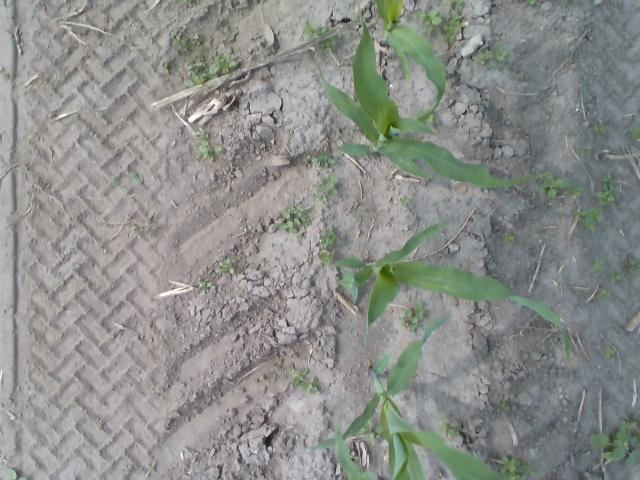Maize: (313, 4, 542, 188), (336, 222, 572, 364), (309, 318, 508, 480), (371, 0, 446, 120), (329, 425, 382, 480)
Weeds: (593, 428, 640, 466), (417, 8, 441, 36), (542, 172, 564, 198), (208, 54, 235, 74), (276, 211, 300, 233), (198, 140, 221, 161), (443, 20, 461, 44), (289, 364, 308, 386), (316, 176, 338, 194), (400, 310, 418, 332), (293, 206, 312, 226), (604, 172, 618, 197), (322, 228, 338, 248), (184, 72, 206, 86), (588, 208, 602, 230), (495, 42, 511, 61), (442, 418, 458, 437), (302, 24, 327, 36), (216, 258, 234, 274), (113, 178, 128, 197), (298, 378, 318, 392), (626, 254, 639, 274), (318, 38, 336, 52), (502, 457, 516, 474), (598, 190, 614, 204), (303, 150, 317, 164), (319, 156, 335, 168), (414, 302, 426, 318), (130, 172, 143, 185), (319, 252, 333, 264), (198, 278, 212, 290), (174, 34, 186, 48), (568, 184, 582, 196), (8, 471, 26, 480), (0, 66, 11, 80), (488, 51, 497, 67), (574, 209, 586, 221), (598, 288, 610, 299), (523, 465, 535, 476), (595, 123, 607, 134), (504, 232, 514, 245), (630, 126, 640, 139), (478, 49, 486, 65), (196, 128, 208, 138), (192, 34, 202, 46), (515, 458, 523, 472), (195, 55, 205, 66), (148, 226, 159, 236), (518, 353, 529, 363), (604, 347, 614, 358), (595, 258, 604, 270), (580, 146, 592, 155), (128, 17, 138, 27), (510, 473, 524, 480), (450, 0, 463, 7), (181, 42, 190, 52), (500, 402, 510, 411), (620, 420, 632, 427), (399, 197, 409, 205), (560, 0, 573, 6), (130, 226, 141, 232), (162, 60, 170, 68), (450, 14, 458, 21), (180, 0, 194, 4), (427, 116, 434, 124), (612, 276, 622, 281), (622, 274, 628, 282), (526, 0, 535, 5), (185, 64, 192, 70), (516, 74, 524, 79), (570, 131, 576, 137)
